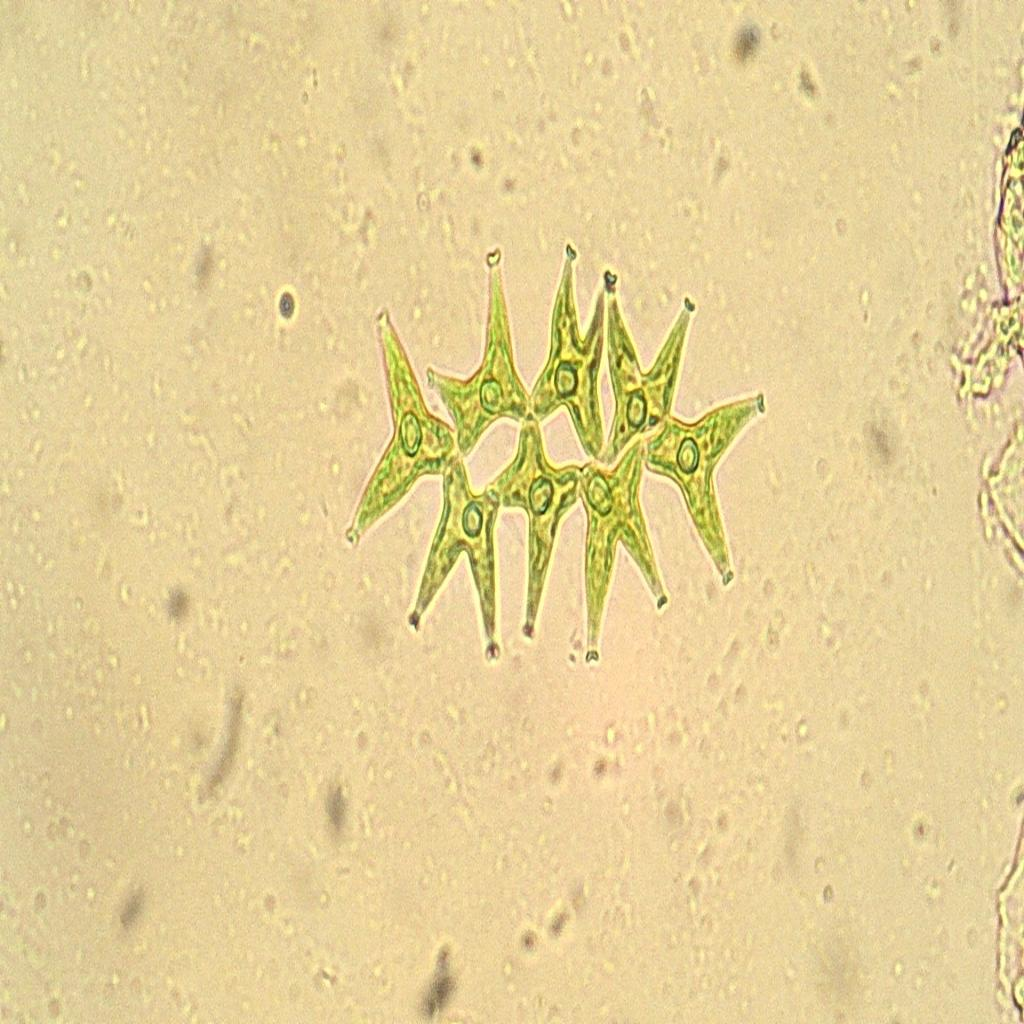Pediastrum_CFI: (341, 231, 779, 682)
